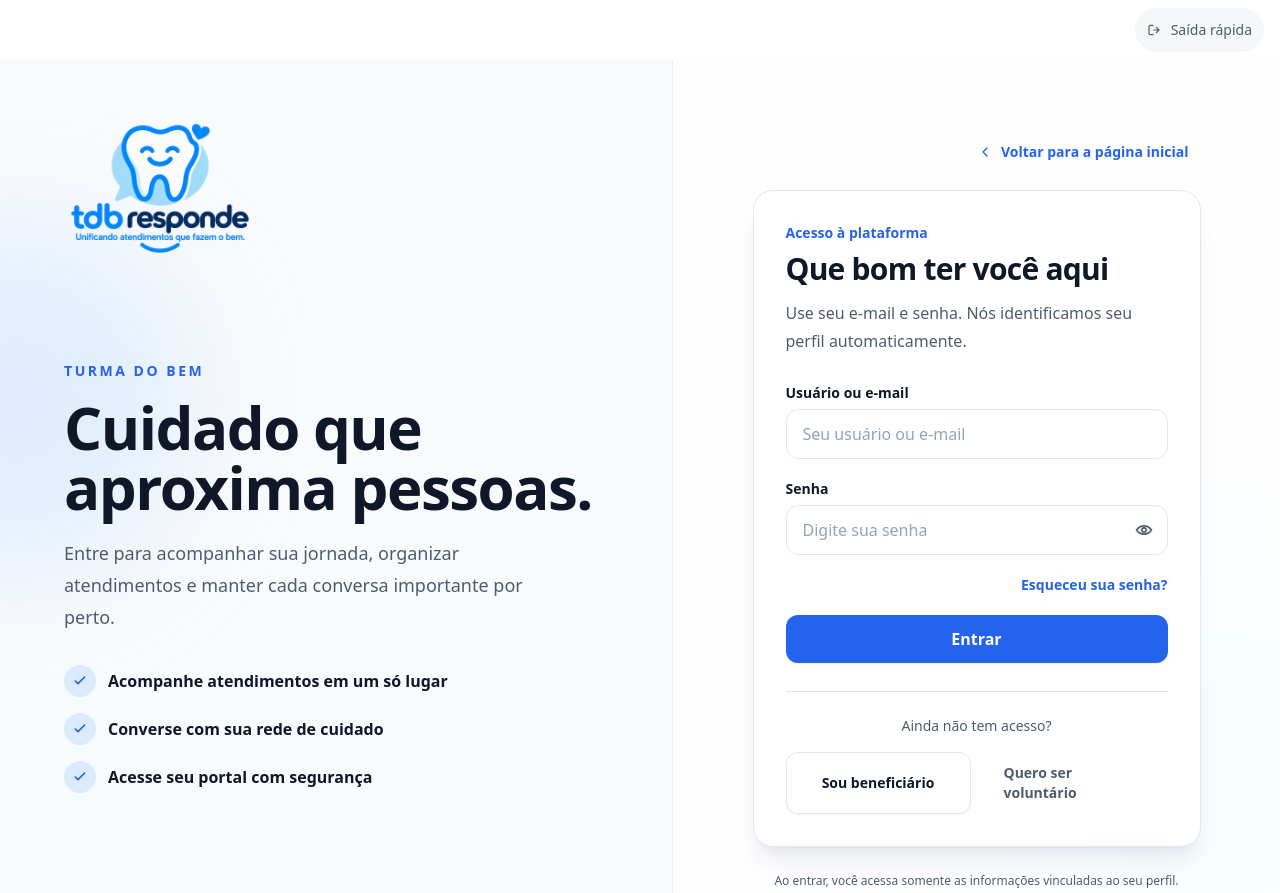
Test case: login sem seleção prévia de perfil › mantém bloqueio e mensagem para conta inativa
In the field labelled "Usuário ou e-mail": [976, 434] box [786,408,1168,458], type "pessoa@teste.com"
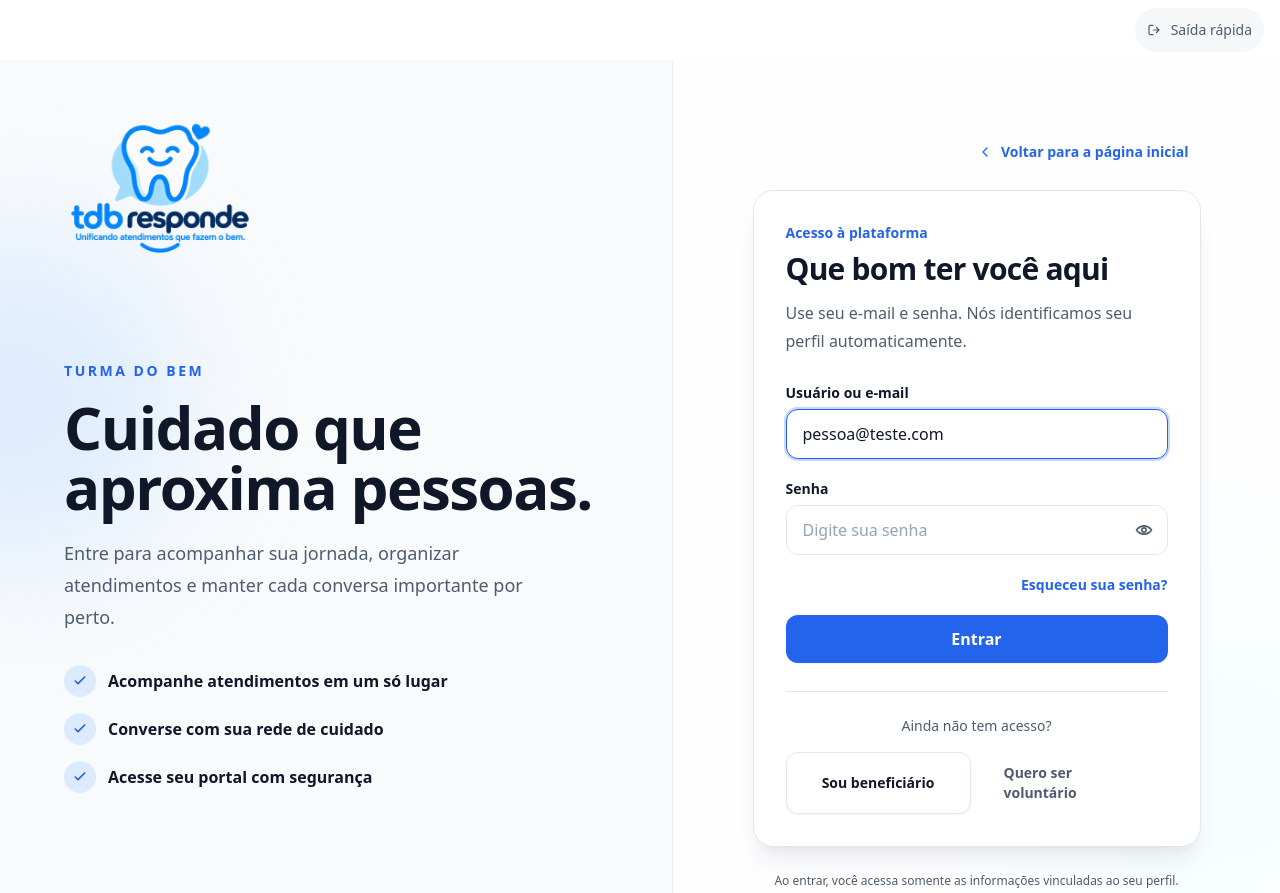
In the password field labelled "Senha": [976, 530] box [786,504,1168,554], type "senha123"
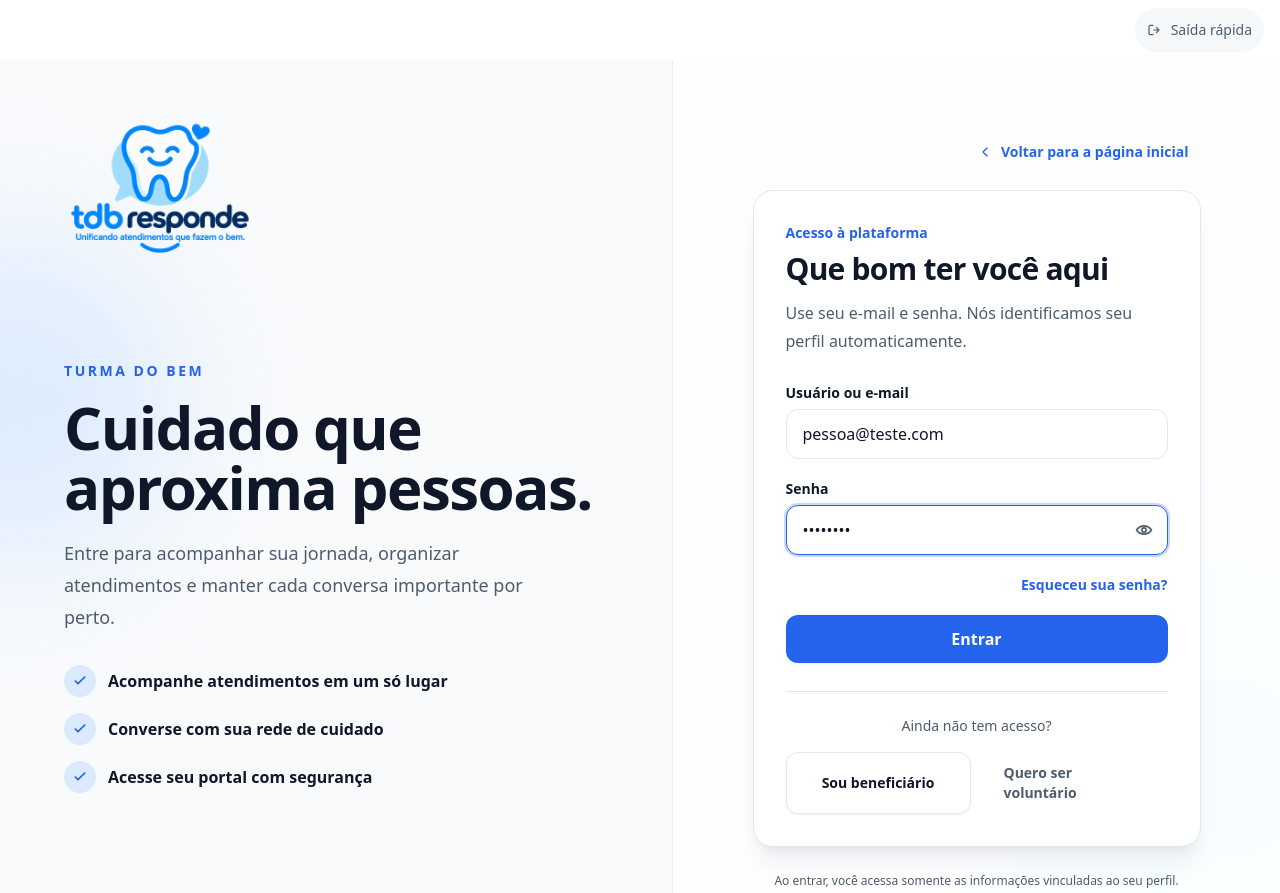
Click the button "Entrar": [976, 638] box [786,614,1168,662]
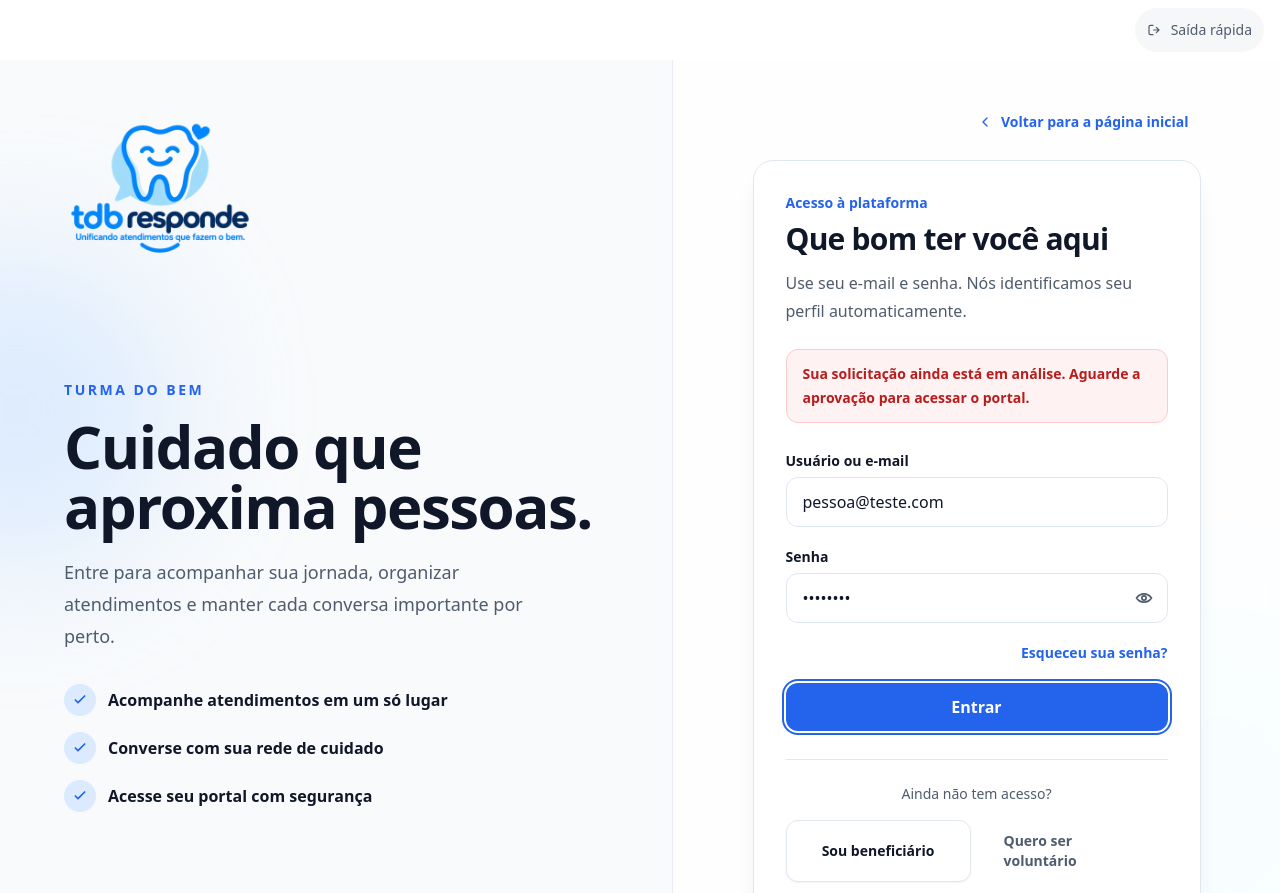
Check: the message shows "ainda está em análise", box [802,364,1141,407]
